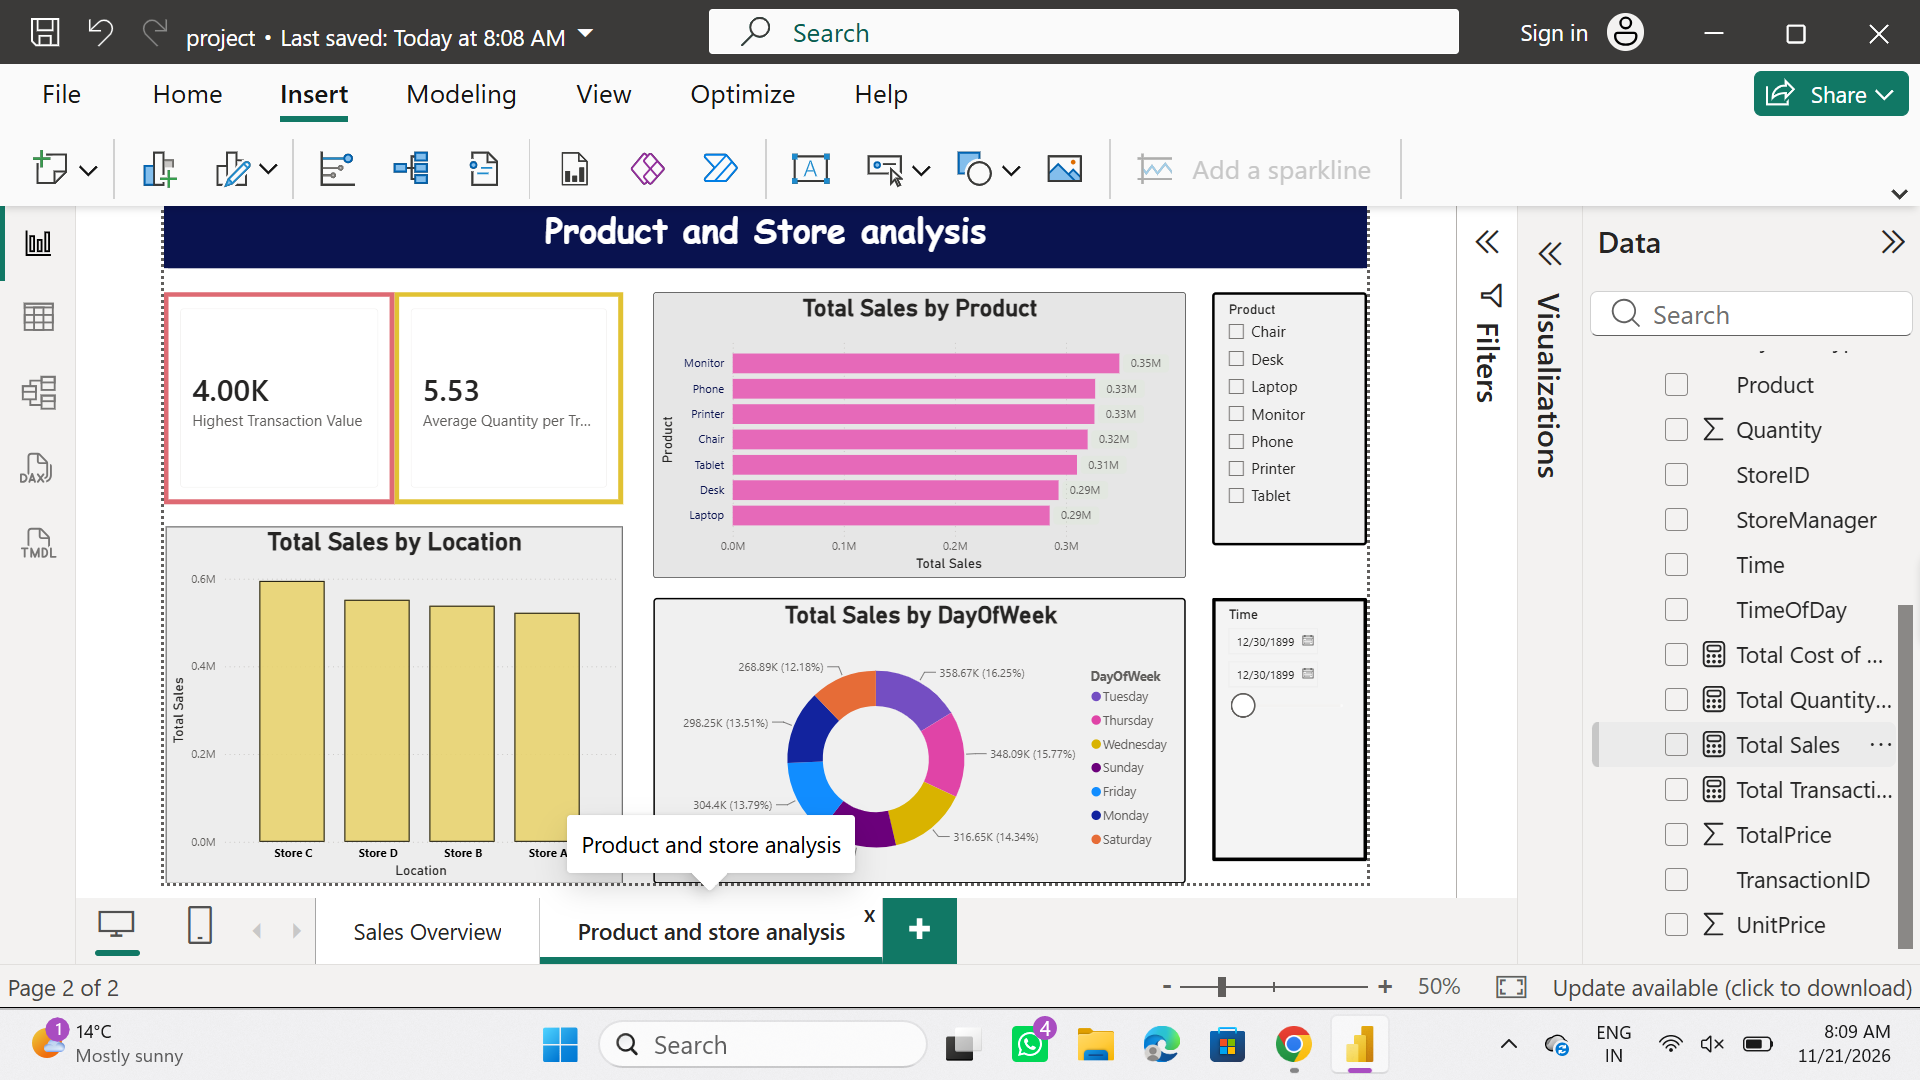

This screenshot's page, from the dashboard's own definition file:
{"tool":"powerbi","page":{"name":"Product and store analysis","canvas":[1280,720],"ordinal":1},"visuals":[{"type":"columnChart","fields":{"Category":["Sheet1.Location"],"Y":["Sheet1.Total Sales"]},"box":[2.2,340.7,486.1,379.8],"z":0},{"type":"textbox","title":"Product and Store analysis","box":[0,0,1280.3,69.4],"z":1000},{"type":"cardVisual","fields":{"Data":["Sheet1.Highest Transaction Value"]},"box":[0,91.1,245.2,225.7],"z":2000},{"type":"cardVisual","fields":{"Data":["Sheet1.Average Quantity per Transaction"]},"box":[245.2,91.1,243,225.7],"z":3000},{"type":"clusteredBarChart","fields":{"Category":["Sheet1.Product"],"Y":["Sheet1.Total Sales"]},"box":[520.8,91.1,566.4,303.8],"z":4000},{"type":"donutChart","fields":{"Category":["Sheet1.DayOfWeek"],"Y":["Sheet1.Total Sales"]},"box":[520.8,416.6,566.4,303.8],"z":5000},{"type":"slicer","fields":{"Values":["Sheet1.Product"]},"box":[1115.4,91.1,164.9,269.1],"z":5001},{"type":"slicer","fields":{"Values":["Sheet1.Time"]},"box":[1115.4,416.6,164.9,279.9],"z":5002}]}

Visuals, with their boxes on the page's 1280x720 design canvas (x1, y1, x2, y2). These are canvas units, not pixel positions in the 1920x1080 screenshot, which may show the page scaled, cropped or inside an application window:
columnChart - Sheet1.Location x Sheet1.Total Sales: bbox=(2, 341, 488, 720)
"Product and Store analysis" textbox: bbox=(0, 0, 1280, 69)
cardVisual - Sheet1.Highest Transaction Value: bbox=(0, 91, 245, 317)
cardVisual - Sheet1.Average Quantity per Transaction: bbox=(245, 91, 488, 317)
clusteredBarChart - Sheet1.Product x Sheet1.Total Sales: bbox=(521, 91, 1087, 395)
donutChart - Sheet1.DayOfWeek x Sheet1.Total Sales: bbox=(521, 417, 1087, 720)
slicer - Sheet1.Product: bbox=(1115, 91, 1280, 360)
slicer - Sheet1.Time: bbox=(1115, 417, 1280, 696)
